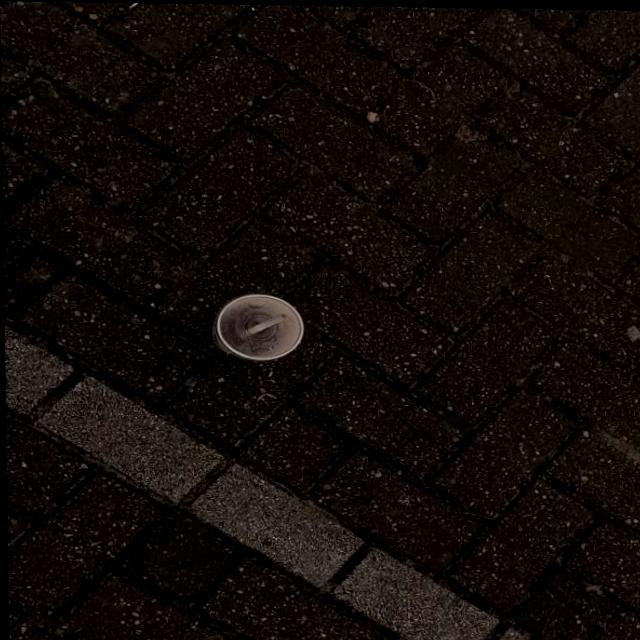Cup: (199, 290, 306, 364)
